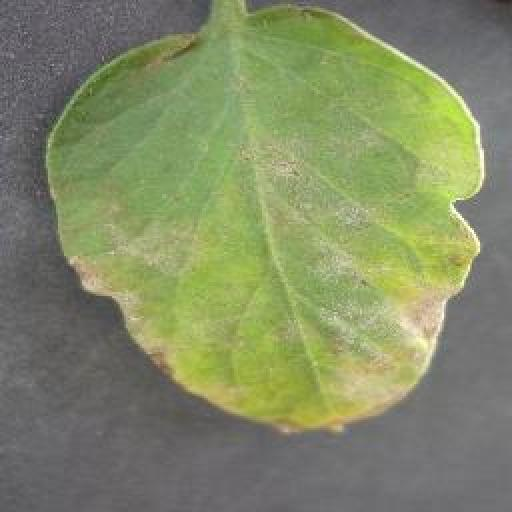disease_tomato: (43, 5, 489, 439)
